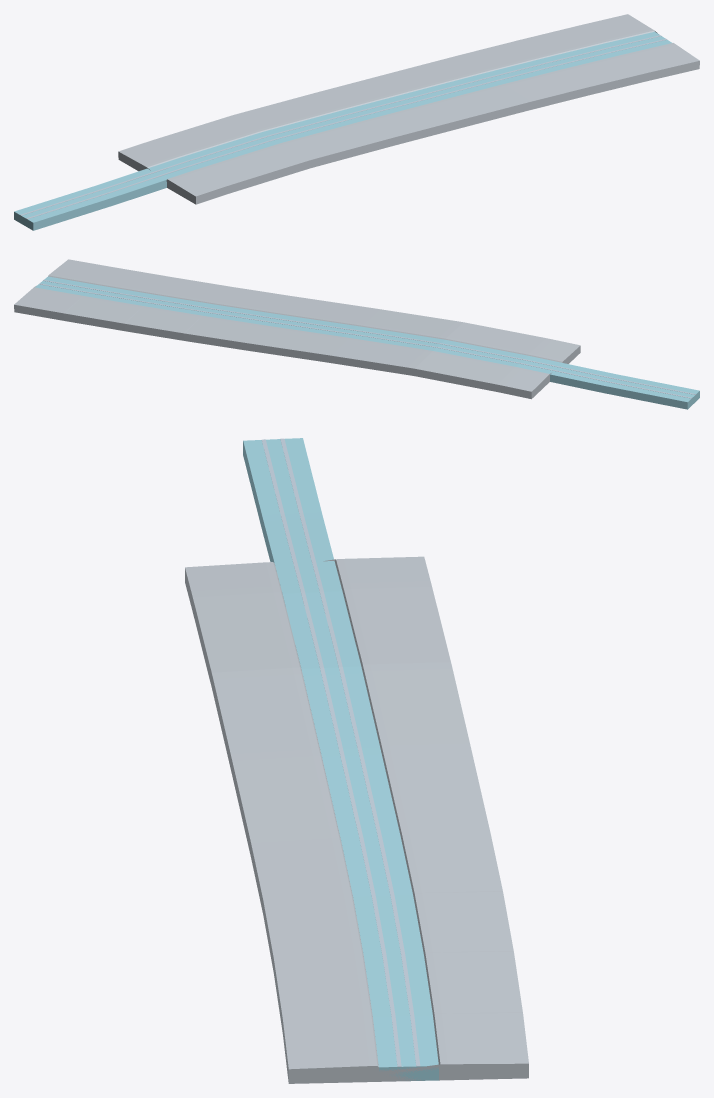
Rendered from Road_2_0_0.fbx.
3 renders of one model, top to bottom at view 1: azimuth 30°, elevation 25°; view 2: azimuth 150°, elevation 25°; view 3: azimuth 270°, elevation 25°, orthographic. The views are drawn at different scales.
Parts seen in each view (by area): view 1: Road_2_0_0; view 2: Road_2_0_0; view 3: Road_2_0_0.
Part boxes in pixels (x1,y1,x2,y2): Road_2_0_0: (14,14,699,230); Road_2_0_0: (14,259,699,409); Road_2_0_0: (185,438,528,1083).
Size of the model in its own units: 19129 by 672 by 4576.
